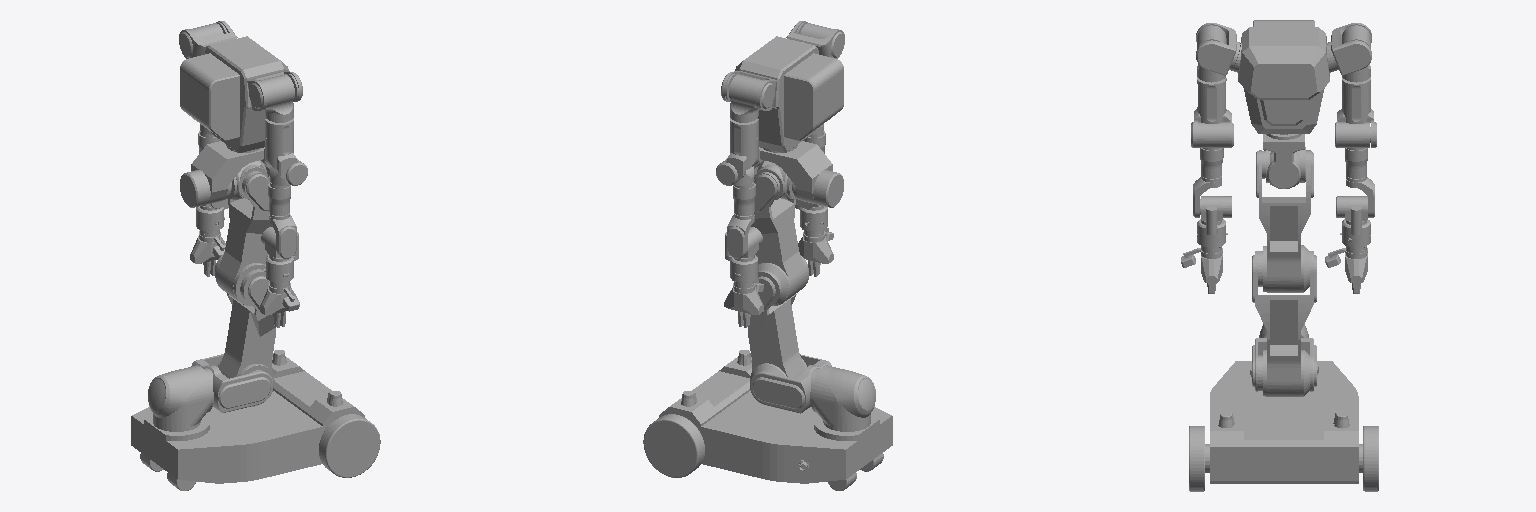
--- What the picture shows (computed from the rendered views, not written in the file) ---
Views: 3 orthographic renders of the robot side by side, from view 1: azimuth 30°, elevation 25°; view 2: azimuth 150°, elevation 25°; view 3: azimuth 270°, elevation 25°.
Robot: RB_Y1_V1.0.1 — 29 links, 28 joints (20 revolute, 2 continuous, 6 fixed); root link base; default pose: all joints at 0.
Visible links, largest first — view 1: base, link_torso_5, link_torso_2, link_torso_1, link_torso_4, wheel_r, link_torso_0, link_right_arm_2, link_right_arm_1, ee_right, ee_left, link_left_arm_0 (+5 smaller); view 2: base, link_torso_5, link_torso_2, link_torso_1, link_torso_4, wheel_l, link_torso_0, link_left_arm_2, link_left_arm_1, ee_left, ee_right, link_right_arm_0 (+5 smaller); view 3: base, link_torso_5, link_torso_1, link_torso_2, link_torso_4, link_right_arm_2, link_left_arm_2, link_left_arm_3, link_right_arm_3, link_left_arm_0, link_right_arm_0, link_left_arm_5 (+9 smaller).
Link boxes in pixels (x1=…): base: x1=131, y1=350, x2=364, y2=490; link_torso_5: x1=180, y1=36, x2=288, y2=152; link_torso_2: x1=215, y1=172, x2=272, y2=305; link_torso_1: x1=215, y1=254, x2=275, y2=406; link_torso_4: x1=180, y1=141, x2=269, y2=207; wheel_r: x1=319, y1=414, x2=380, y2=477; link_torso_0: x1=191, y1=354, x2=273, y2=412; link_right_arm_2: x1=264, y1=118, x2=307, y2=185; link_right_arm_1: x1=259, y1=74, x2=294, y2=122; ee_right: x1=260, y1=274, x2=299, y2=314; ee_left: x1=190, y1=223, x2=225, y2=263; link_left_arm_0: x1=179, y1=21, x2=237, y2=58; base: x1=659, y1=350, x2=892, y2=490; link_torso_5: x1=735, y1=36, x2=843, y2=152; link_torso_2: x1=751, y1=172, x2=808, y2=305; link_torso_1: x1=748, y1=256, x2=808, y2=380; link_torso_4: x1=754, y1=141, x2=843, y2=207; wheel_l: x1=643, y1=414, x2=704, y2=477; link_torso_0: x1=750, y1=354, x2=831, y2=413; link_left_arm_2: x1=716, y1=118, x2=759, y2=185; link_left_arm_1: x1=729, y1=74, x2=764, y2=122; ee_left: x1=724, y1=274, x2=763, y2=314; ee_right: x1=798, y1=223, x2=833, y2=263; link_right_arm_0: x1=786, y1=21, x2=844, y2=58; base: x1=1205, y1=324, x2=1362, y2=483; link_torso_5: x1=1231, y1=20, x2=1336, y2=134; link_torso_1: x1=1252, y1=251, x2=1316, y2=396; link_torso_2: x1=1256, y1=150, x2=1313, y2=292; link_torso_4: x1=1263, y1=134, x2=1304, y2=188; link_right_arm_2: x1=1191, y1=77, x2=1233, y2=147; link_left_arm_2: x1=1335, y1=77, x2=1376, y2=147; link_left_arm_3: x1=1338, y1=122, x2=1370, y2=178; link_right_arm_3: x1=1198, y1=122, x2=1229, y2=178; link_left_arm_0: x1=1328, y1=23, x2=1371, y2=75; link_right_arm_0: x1=1196, y1=23, x2=1240, y2=75; link_left_arm_5: x1=1336, y1=196, x2=1370, y2=236.
Size in the robot's own frame: 0.6625 by 0.6049 by 1.42 metres.
29 mesh visuals loaded from 24 distinct referenced files (24 binary STL).

The robot description file, URDF, robot "RB_Y1_V1.0.1":
<?xml version="1.0"?>
<robot name="RB_Y1_V1.0.1">
  <mobile wheel_base="0.53" wheel_radius="0.1" />

  <link name="base">
    <inertial>
      <mass value="60.08042639"/>
      <origin rpy="0 0 0" xyz="-0.06157942 -0.00142271 0.13513861"/>
      <inertia ixx="1.37742174" ixy="0.02521789" ixz="0.18565467" iyy="2.99386515" iyz="-0.00641869"
               izz="3.76085052"/>
    </inertial>

    <visual>
      <geometry>
        <mesh filename="./meshes/base.stl"/>
      </geometry>
      <material name="LightGrey">
        <color rgba="0.7 0.7 0.7 1.0"/>
      </material>
    </visual>
  </link>

  <link name="wheel_r">
    <inertial>
      <mass value="1.37783736"/>
      <origin rpy="0 0 0" xyz="0.0 -0.00073938 0.0"/>
      <inertia ixx="0.00426657" ixy="0.0" ixz="0.0" iyy="0.00811815" iyz="0.0" izz="0.00426657"/>
    </inertial>

    <visual>
      <geometry>
        <mesh filename="./meshes/WHEEL.stl"/>
      </geometry>
      <material name="LightGrey">
        <color rgba="0.7 0.7 0.7 1.0"/>
      </material>
    </visual>
  </link>

  <link name="wheel_l">
    <inertial>
      <mass value="1.37783736"/>
      <origin rpy="0 0 0" xyz="0.0 0.00073938 0.0"/>
      <inertia ixx="0.00426657" ixy="0.0" ixz="0.0" iyy="0.00811815" iyz="0.0" izz="0.00426657"/>
    </inertial>

    <visual>
      <geometry>
        <mesh filename="./meshes/WHEEL.stl"/>
      </geometry>
      <material name="LightGrey">
        <color rgba="0.7 0.7 0.7 1.0"/>
      </material>
    </visual>
  </link>

  <link name="link_torso_0">
    <inertial>
      <mass value="2.24282123"/>
      <origin rpy="0 0 0" xyz="-0.08848415 0.00021367 0.00000046"/>
      <inertia ixx="0.01413496" ixy="0.00092982" ixz="-0.00000010" iyy="0.01005357"
               iyz="-0.00000008" izz="0.01892525"/>
    </inertial>

    <visual>
      <geometry>
        <mesh filename="./meshes/LINK_1.stl"/>
      </geometry>
      <material name="LightGrey">
        <color rgba="0.7 0.7 0.7 1.0"/>
      </material>
    </visual>

    <collision>
      <geometry>
        <capsule sp="0.0 0.0 0.0" ep="-0.230 0.0 0.0" radius="0.105"/>
      </geometry>
    </collision>
  </link>

  <link name="link_torso_1">
    <inertial>
      <mass value="9.72162676"/>
      <origin rpy="0 0 0" xyz="0.00728955 -0.01728522 0.06911380"/>
      <inertia ixx="0.14862640" ixy="-0.00142621" ixz="-0.00951385" iyy="0.13854733"
               iyz="-0.00975351" izz="0.02912982"/>
    </inertial>

    <visual>
      <geometry>
        <mesh filename="./meshes/LINK_2.stl"/>
      </geometry>
      <material name="LightGrey">
        <color rgba="0.7 0.7 0.7 1.0"/>
      </material>
    </visual>

    <collision>
      <geometry>
        <capsule sp="0.01 0.0 0.130" ep="0.01 0.0 0.350" radius="0.115"/>
      </geometry>
    </collision>
  </link>

  <link name="link_torso_2">
    <inertial>
      <mass value="9.21691850"/>
      <origin rpy="0 0 0" xyz="0.00653835 -0.01769536 0.05636582"/>
      <inertia ixx="0.12162270" ixy="-0.00127910" ixz="-0.00831678" iyy="0.11589190"
               iyz="-0.00873271" izz="0.03094484"/>
    </inertial>

    <visual>
      <geometry>
        <mesh filename="./meshes/LINK_3.stl"/>
      </geometry>
      <material name="LightGrey">
        <color rgba="0.7 0.7 0.7 1.0"/>
      </material>
    </visual>

    <collision>
      <geometry>
        <capsule sp="0.025 0.0 0.15" ep="0.025 0.0 0.310" radius="0.095"/>
      </geometry>
    </collision>
  </link>

  <link name="link_torso_3">
    <inertial>
      <mass value="4.18679196"/>
      <origin rpy="0 0 0" xyz="-0.00574156 -0.01725975 0.00005610"/>
      <inertia ixx="0.00849870" ixy="0.00040861" ixz="-0.00000263" iyy="0.00929513"
               iyz="-0.00001243" izz="0.00955442"/>
    </inertial>

    <visual>
      <geometry>
        <mesh filename="./meshes/LINK_4.stl"/>
      </geometry>
      <material name="LightGrey">
        <color rgba="0.7 0.7 0.7 1.0"/>
      </material>
    </visual>
  </link>

  <link name="link_torso_4">
    <inertial>
      <mass value="4.45566276"/>
      <origin rpy="0 0 0" xyz="-0.09097095 0.00005085 0.02601950"/>
      <inertia ixx="0.01545991" ixy="0.00001883" ixz="-0.00780349" iyy="0.02550888" iyz="0.00000715"
               izz="0.01952563"/>
    </inertial>

    <visual>
      <geometry>
        <mesh filename="./meshes/LINK_5.stl"/>
      </geometry>
      <material name="LightGrey">
        <color rgba="0.7 0.7 0.7 1.0"/>
      </material>
    </visual>

    <collision>
      <geometry>
        <capsule sp="0.03 0.0 0.0385" ep="-0.170 0.0 0.0385" radius="0.105"/>
      </geometry>
    </collision>
  </link>

  <link name="link_torso_5">
    <inertial>
      <mass value="12.87822997"/>
      <origin rpy="0 0 0" xyz="-0.02406094 0.00153804 -0.03247881"/>
      <inertia ixx="0.19092366" ixy="0.00191314" ixz="0.00619094" iyy="0.15535962" iyz="0.00042612"
               izz="0.13368598"/>
    </inertial>

    <visual>
      <geometry>
        <mesh filename="./meshes/LINK_6.stl"/>
      </geometry>
      <material name="LightGrey">
        <color rgba="0.7 0.7 0.7 1.0"/>
      </material>
    </visual>

    <collision>
      <geometry>
        <capsule sp="0.0 0.0 -0.06" ep="0.0 0.0 0.075" radius="0.155"/>
      </geometry>
    </collision>
  </link>

  <link name="link_right_arm_0">
    <inertial>
      <mass value="1.26164242"/>
      <origin rpy="0 0 0" xyz="-0.00316662 0.03437181 -0.00000030"/>
      <inertia ixx="0.00230621" ixy="0.00039024" ixz="-0.00000256" iyy="0.00426418" iyz="0.00000118"
               izz="0.00432156"/>
    </inertial>

    <visual>
      <geometry>
        <mesh filename="./meshes/LINK_7.stl"/>
      </geometry>
      <material name="LightGrey">
        <color rgba="0.7 0.7 0.7 1.0"/>
      </material>
    </visual>
  </link>

  <link name="link_right_arm_1">
    <inertial>
      <mass value="2.27287031"/>
      <origin rpy="0 0 0" xyz="-0.00307855 -0.00124741 -0.01294324"/>
      <inertia ixx="0.00388490" ixy="-0.00001477" ixz="0.00011465" iyy="0.00447034"
               iyz="-0.00010023" izz="0.00288341"/>
    </inertial>

    <visual>
      <geometry>
        <mesh filename="./meshes/LINK_8.stl"/>
      </geometry>
      <material name="LightGrey">
        <color rgba="0.7 0.7 0.7 1.0"/>
      </material>
    </visual>

    <collision>
      <geometry>
        <capsule sp="0.0 0.0 0.0" ep="0.0 0.0 -0.200" radius="0.050"/>
      </geometry>
    </collision>
  </link>

  <link name="link_right_arm_2">
    <inertial>
      <mass value="2.46909439"/>
      <origin rpy="0 0 0" xyz="0.00115434 -0.00196635 -0.16192524"/>
      <inertia ixx="0.00980269" ixy="0.00005871" ixz="0.00051888" iyy="0.00924560" iyz="-0.00045932"
               izz="0.00329867"/>
    </inertial>

    <visual>
      <geometry>
        <mesh filename="./meshes/LINK_9.stl"/>
      </geometry>
      <material name="LightGrey">
        <color rgba="0.7 0.7 0.7 1.0"/>
      </material>
    </visual>

    <collision>
      <geometry>
        <capsule sp="0.026 -0.040 -0.276" ep="0.026 0.040 -0.276" radius="0.05"/>
      </geometry>
    </collision>
  </link>

  <link name="link_right_arm_3">
    <inertial>
      <mass value="2.26099493"/>
      <origin rpy="0 0 0" xyz="-0.01603135 -0.00692891 -0.04549811"/>
      <inertia ixx="0.00822606" ixy="0.00027620" ixz="-0.00156570" iyy="0.00844870" iyz="0.00076157"
               izz="0.00236614"/>
    </inertial>

    <visual>
      <geometry>
        <mesh filename="./meshes/LINK_10.stl"/>
      </geometry>
      <material name="LightGrey">
        <color rgba="0.7 0.7 0.7 1.0"/>
      </material>
    </visual>

    <collision>
      <geometry>
        <capsule sp="-0.031 0.0 -0.05" ep="-0.031 0.0 -0.165" radius="0.04"/>
      </geometry>
    </collision>
  </link>

  <link name="link_right_arm_4">
    <inertial>
      <mass value="0.42508710"/>
      <origin rpy="0 0 0" xyz="-0.00000011 -0.02696036 0.06182110"/>
      <inertia ixx="0.00082466" ixy="0.0" ixz="0.0" iyy="0.00075398" iyz="-0.00025338"
               izz="0.00039794"/>
    </inertial>

    <visual>
      <geometry>
        <mesh filename="./meshes/LINK_11.stl"/>
      </geometry>
      <material name="LightGrey">
        <color rgba="0.7 0.7 0.7 1.0"/>
      </material>
    </visual>

    <collision>
      <geometry>
        <capsule sp="0.0 -0.038 0.065" ep="0.0 -0.038 -0.030" radius="0.035"/>
      </geometry>
    </collision>
  </link>

  <link name="link_right_arm_5">
    <inertial>
      <mass value="1.59194395"/>
      <origin rpy="0 0 0" xyz="0.00318034 -0.00532264 -0.02809655"/>
      <inertia ixx="0.00256054" ixy="-0.00002344" ixz="-0.00001563" iyy="0.00257233"
               iyz="0.00021608" izz="0.00156092"/>
    </inertial>

    <visual>
      <geometry>
        <mesh filename="./meshes/LINK_12.stl"/>
      </geometry>
      <material name="LightGrey">
        <color rgba="0.7 0.7 0.7 1.0"/>
      </material>
    </visual>

    <collision>
      <geometry>
        <capsule sp="0.0 0.0 0.002" ep="0.0 0.0 -0.050" radius="0.075"/>
      </geometry>
    </collision>
  </link>

  <link name="link_right_arm_6">
    <inertial>
      <mass value="0.21029326"/>
      <origin rpy="0 0 0" xyz="0.00071353 -0.00030290 -0.09642180"/>
      <inertia ixx="0.00013433" ixy="-0.00000235" ixz="-0.00000104" iyy="0.00014362"
               iyz="0.00000094" izz="0.00025299"/>
    </inertial>

    <visual>
      <geometry>
        <mesh filename="./meshes/LINK_13.stl"/>
      </geometry>
      <material name="LightGrey">
        <color rgba="0.7 0.7 0.7 1.0"/>
      </material>
    </visual>
  </link>

  <link name="link_left_arm_0">
    <inertial>
      <mass value="1.26164242"/>
      <origin rpy="0 0 0" xyz="-0.00316662 -0.03437151 0.00000242"/>
      <inertia ixx="0.00230624" ixy="-0.00039022" ixz="0.00000269" iyy="0.00426418" iyz="0.00000108"
               izz="0.00432159"/>
    </inertial>

    <visual>
      <geometry>
        <mesh filename="./meshes/LINK_14.stl"/>
      </geometry>
      <material name="LightGrey">
        <color rgba="0.7 0.7 0.7 1.0"/>
      </material>
    </visual>
  </link>

  <link name="link_left_arm_1">
    <inertial>
      <mass value="1.88138658"/>
      <origin rpy="0 0 0" xyz="-0.00183470 0.00040596 -0.01008733"/>
      <inertia ixx="0.00295838" ixy="-0.00001176" ixz="0.00006949" iyy="0.00355208" iyz="0.00004467"
               izz="0.00230558"/>
    </inertial>

    <visual>
      <geometry>
        <mesh filename="./meshes/LINK_15.stl"/>
      </geometry>
      <material name="LightGrey">
        <color rgba="0.7 0.7 0.7 1.0"/>
      </material>
    </visual>

    <collision>
      <geometry>
        <capsule sp="0.0 0.0 0.0" ep="0.0 0.0 -0.200" radius="0.050"/>
      </geometry>
    </collision>
  </link>

  <link name="link_left_arm_2">
    <inertial>
      <mass value="2.35634437"/>
      <origin rpy="0 0 0" xyz="0.00066086 -0.00038583 -0.15742972"/>
      <inertia ixx="0.00842712" ixy="0.00000247" ixz="0.00036948" iyy="0.00802311" iyz="-0.00006550"
               izz="0.00295678"/>
    </inertial>

    <visual>
      <geometry>
        <mesh filename="./meshes/LINK_16.stl"/>
      </geometry>
      <material name="LightGrey">
        <color rgba="0.7 0.7 0.7 1.0"/>
      </material>
    </visual>

    <collision>
      <geometry>
        <capsule sp="0.026 -0.040 -0.276" ep="0.026 0.040 -0.276" radius="0.05"/>
      </geometry>
    </collision>
  </link>

  <link name="link_left_arm_3">
    <inertial>
      <mass value="2.00905891"/>
      <origin rpy="0 0 0" xyz="-0.01565298 0.00793126 -0.04997943"/>
      <inertia ixx="0.00756474" ixy="-0.00026771" ixz="-0.00155419" iyy="0.00772758"
               iyz="-0.00084364" izz="0.00199754"/>
    </inertial>

    <visual>
      <geometry>
        <mesh filename="./meshes/LINK_17.stl"/>
      </geometry>
      <material name="LightGrey">
        <color rgba="0.7 0.7 0.7 1.0"/>
      </material>
    </visual>

    <collision>
      <geometry>
        <capsule sp="-0.031 0.0 -0.05" ep="-0.031 0.0 -0.165" radius="0.04"/>
      </geometry>
    </collision>
  </link>

  <link name="link_left_arm_4">
    <inertial>
      <mass value="0.42508710"/>
      <origin rpy="0 0 0" xyz="0.00000011 0.02696036 0.06182110"/>
      <inertia ixx="0.00082466" ixy="0.0" ixz="0.0" iyy="0.00075398" iyz="0.00025338"
               izz="0.00039794"/>
    </inertial>

    <visual>
      <geometry>
        <mesh filename="./meshes/LINK_18.stl"/>
      </geometry>
      <material name="LightGrey">
        <color rgba="0.7 0.7 0.7 1.0"/>
      </material>
    </visual>

    <collision>
      <geometry>
        <capsule sp="0.0 0.038 0.065" ep="0.0 0.038 -0.030" radius="0.035"/>
      </geometry>
    </collision>
  </link>

  <link name="link_left_arm_5">
    <inertial>
      <mass value="1.44264795"/>
      <origin rpy="0 0 0" xyz="0.00340082 0.00576824 -0.02507309"/>
      <inertia ixx="0.00233577" ixy="0.00003048" ixz="-0.00001191" iyy="0.00232580"
               iyz="-0.00019491" izz="0.00138375"/>
    </inertial>

    <visual>
      <geometry>
        <mesh filename="./meshes/LINK_19.stl"/>
      </geometry>
      <material name="LightGrey">
        <color rgba="0.7 0.7 0.7 1.0"/>
      </material>
    </visual>

    <collision>
      <geometry>
        <capsule sp="0.0 0.0 0.002" ep="0.0 0.0 -0.050" radius="0.075"/>
      </geometry>
    </collision>
  </link>

  <link name="link_left_arm_6">
    <inertial>
      <mass value="0.21029326"/>
      <origin rpy="0 0 0" xyz="-0.00071353 0.00030290 -0.09642180"/>
      <inertia ixx="0.00013433" ixy="-0.00000235" ixz="0.00000104" iyy="0.00014362"
               iyz="-0.00000094" izz="0.00025299"/>
    </inertial>

    <visual>
      <geometry>
        <mesh filename="./meshes/LINK_20.stl"/>
      </geometry>
      <material name="LightGrey">
        <color rgba="0.7 0.7 0.7 1.0"/>
      </material>
    </visual>
  </link>

  <link name="ee_right">
    <inertial>
      <mass value="0.96177521"/>
      <origin rpy="0 0 0" xyz="0.0 0.0 0.0"/>
      <inertia ixx="0.00214634" ixy="0.00000902" ixz="0.00001944" iyy="0.00178176" iyz="-0.00015825"
               izz="0.00131298"/>
    </inertial>

    <visual>
      <geometry>
        <mesh filename="./meshes/EE_BODY.stl"/>
      </geometry>
      <material name="LightGrey">
        <color rgba="0.7 0.7 0.7 1.0"/>
      </material>
    </visual>
  </link>

  <link name="ee_finger_r1">
    <inertial>
      <mass value="0.03030138"/>
      <origin rpy="0 0 0" xyz="0.0 0.0 0.0"/>
      <inertia ixx="0.00000985" ixy="0.0" ixz="-0.00000022" iyy="0.00000845" iyz="0.0"
               izz="0.00000201"/>
    </inertial>

    <visual>
      <geometry>
        <mesh filename="./meshes/EE_FINGER.stl"/>
      </geometry>
      <material name="LightGrey">
        <color rgba="0.7 0.7 0.7 1.0"/>
      </material>
    </visual>
  </link>

  <link name="ee_finger_r2">
    <inertial>
      <mass value="0.03030138"/>
      <origin rpy="0 0 0" xyz="0.0 0.0 0.0"/>
      <inertia ixx="0.00000985" ixy="0.0" ixz="-0.00000022" iyy="0.00000845" iyz="0.0"
               izz="0.00000201"/>
    </inertial>

    <visual>
      <geometry>
        <mesh filename="./meshes/EE_FINGER.stl"/>
      </geometry>
      <material name="LightGrey">
        <color rgba="0.7 0.7 0.7 1.0"/>
      </material>
    </visual>
  </link>

  <link name="ee_left">
    <inertial>
      <mass value="0.96177521"/>
      <origin rpy="0 0 0" xyz="0.0 0.0 0.0"/>
      <inertia ixx="0.00214634" ixy="0.00000902" ixz="0.00001944" iyy="0.00178176" iyz="-0.00015825"
               izz="0.00131298"/>
    </inertial>

    <visual>
      <geometry>
        <mesh filename="./meshes/EE_BODY.stl"/>
      </geometry>
      <material name="LightGrey">
        <color rgba="0.7 0.7 0.7 1.0"/>
      </material>
    </visual>
  </link>

  <link name="ee_finger_l1">
    <inertial>
      <mass value="0.03030138"/>
      <origin rpy="0 0 0" xyz="0.0 0.0 0.0"/>
      <inertia ixx="0.00000985" ixy="0.0" ixz="-0.00000022" iyy="0.00000845" iyz="0.0"
               izz="0.00000201"/>
    </inertial>

    <visual>
      <geometry>
        <mesh filename="./meshes/EE_FINGER.stl"/>
      </geometry>
      <material name="LightGrey">
        <color rgba="0.7 0.7 0.7 1.0"/>
      </material>
    </visual>
  </link>

  <link name="ee_finger_l2">
    <inertial>
      <mass value="0.03030138"/>
      <origin rpy="0 0 0" xyz="0.0 0.0 0.0"/>
      <inertia ixx="0.00000985" ixy="0.0" ixz="-0.00000022" iyy="0.00000845" iyz="0.0"
               izz="0.00000201"/>
    </inertial>

    <visual>
      <geometry>
        <mesh filename="./meshes/EE_FINGER.stl"/>
      </geometry>
      <material name="LightGrey">
        <color rgba="0.7 0.7 0.7 1.0"/>
      </material>
    </visual>
  </link>


  <!-- Joints -->

  <joint name="torso_0" type="revolute">
    <parent link="base"/>
    <child link="link_torso_0"/>
    <origin rpy="0.0 0.0 0.0" xyz="0.0 0.0 0.2805"/>
    <axis xyz="1 0 0"/>
    <limit effort="1000.0" lower="-0.34906585" upper="0.34906585" velocity="3.14159265"/>
  </joint>

  <joint name="torso_1" type="revolute">
    <parent link="link_torso_0"/>
    <child link="link_torso_1"/>
    <origin rpy="0.0 0.0 0.0" xyz="0.0 0.0 0.0"/>
    <axis xyz="0 1 0"/>
    <limit effort="1000.0" lower="-1.04719755" upper="1.52173048" velocity="3.14159265"/>
  </joint>

  <joint name="torso_2" type="revolute">
    <parent link="link_torso_1"/>
    <child link="link_torso_2"/>
    <origin rpy="0.0 0.0 0.0" xyz="0.0 0.0 0.350"/>
    <axis xyz="0 1 0"/>
    <limit effort="1000.0" lower="-2.44346095" upper="1.570796" velocity="3.14159265"/>
  </joint>

  <joint name="torso_3" type="revolute">
    <parent link="link_torso_2"/>
    <child link="link_torso_3"/>
    <origin rpy="0.0 0.0 0.0" xyz="0.0 0.0 0.350"/>
    <axis xyz="0 1 0"/>
    <limit effort="1000.0" lower="-0.78539816" upper="1.57079633" velocity="3.14159265"/>
  </joint>

  <joint name="torso_4" type="revolute">
    <parent link="link_torso_3"/>
    <child link="link_torso_4"/>
    <origin rpy="0.0 0.0 0.0" xyz="0.0 0.0 0.0"/>
    <axis xyz="1 0 0"/>
    <limit effort="1000.0" lower="-0.52359878" upper="0.52359878" velocity="3.14159265"/>
  </joint>

  <joint name="torso_5" type="revolute">
    <parent link="link_torso_4"/>
    <child link="link_torso_5"/>
    <origin rpy="0.0 0.0 0.0" xyz="0.0 0.0 0.309426548461"/>
    <axis xyz="0 0 1"/>
    <limit effort="1000.0" lower="-1.57079633" upper="1.57079633" velocity="3.14159265"/>
  </joint>

  <joint name="right_arm_0" type="revolute">
    <parent link="link_torso_5"/>
    <child link="link_right_arm_0"/>
    <origin rpy="-0.349065850  0.0 0.0" xyz="0.0 -0.220 0.080073451539 "/>
    <axis xyz="0 1 0"/>
    <limit effort="1000.0" lower="-2.35619449" upper="2.35619449" velocity="3.14159265"/>
  </joint>

  <joint name="right_arm_1" type="revolute">
    <parent link="link_right_arm_0"/>
    <child link="link_right_arm_1"/>
    <origin rpy="0.349065850 0.0 0.0" xyz="0.0 0.0 0.0"/>
    <axis xyz="1 0 0"/>
    <limit effort="1000.0" lower="-3.14159265" upper="0.05" velocity="3.14159265"/>
  </joint>

  <joint name="right_arm_2" type="revolute">
    <parent link="link_right_arm_1"/>
    <child link="link_right_arm_2"/>
    <origin rpy="0.0 0.0 0.0" xyz="0.0 0.0 0.0"/>
    <axis xyz="0 0 1"/>
    <limit effort="1000.0" lower="-2.09439510" upper="2.09439510" velocity="3.14159265"/>
  </joint>

  <joint name="right_arm_3" type="revolute">
    <parent link="link_right_arm_2"/>
    <child link="link_right_arm_3"/>
    <origin rpy="0.0 0.0 0.0" xyz="0.031 0.0 -0.276"/>
    <axis xyz="0 1 0"/>
    <limit effort="1000.0" lower="-2.61799388" upper="0.01" velocity="3.14159265"/>
  </joint>

  <joint name="right_arm_4" type="revolute">
    <parent link="link_right_arm_3"/>
    <child link="link_right_arm_4"/>
    <origin rpy="0.0 0.0 0.0" xyz="-0.031 0.0 -0.256"/>
    <axis xyz="0 0 1"/>
    <limit effort="1000.0" lower="-6.28318531" upper="6.28318531" velocity="3.14159265"/>
  </joint>

  <joint name="right_arm_5" type="revolute">
    <parent link="link_right_arm_4"/>
    <child link="link_right_arm_5"/>
    <origin rpy="0.0 0.0 0.0" xyz="0.0 0.0 0.0"/>
    <axis xyz="0 1 0"/>
    <limit effort="1000.0" lower="-1.74532925" upper="2.00712864" velocity="3.14159265"/>
  </joint>

  <joint name="right_arm_6" type="revolute">
    <parent link="link_right_arm_5"/>
    <child link="link_right_arm_6"/>
    <origin rpy="0.0 0.0 0.0" xyz="0.0 0.0 0.0"/>
    <axis xyz="0 0 1"/>
    <limit effort="1000.0" lower="-2.96705973" upper="2.96705973" velocity="3.14159265"/>
  </joint>

  <joint name="left_arm_0" type="revolute">
    <parent link="link_torso_5"/>
    <child link="link_left_arm_0"/>
    <origin rpy="0.349065850  0.0 0.0" xyz="0.0 0.220 0.080073452 "/>
    <axis xyz="0 1 0"/>
    <limit effort="1000.0" lower="-2.35619449" upper="2.35619449" velocity="3.14159265"/>
  </joint>

  <joint name="left_arm_1" type="revolute">
    <parent link="link_left_arm_0"/>
    <child link="link_left_arm_1"/>
    <origin rpy="-0.349065850 0.0 0.0" xyz="0.0 0.0 0.0"/>
    <axis xyz="1 0 0"/>
    <limit effort="1000.0" lower="-0.05" upper="3.14159265" velocity="3.14159265"/>
  </joint>

  <joint name="left_arm_2" type="revolute">
    <parent link="link_left_arm_1"/>
    <child link="link_left_arm_2"/>
    <origin rpy="0.0 0.0 0.0" xyz="0.0 0.0 0.0"/>
    <axis xyz="0 0 1"/>
    <limit effort="1000.0" lower="-2.09439510" upper="2.09439510" velocity="3.14159265"/>
  </joint>

  <joint name="left_arm_3" type="revolute">
    <parent link="link_left_arm_2"/>
    <child link="link_left_arm_3"/>
    <origin rpy="0.0 0.0 0.0" xyz="0.031 0.0 -0.276"/>
    <axis xyz="0 1 0"/>
    <limit effort="1000.0" lower="-2.61799388" upper="0.01" velocity="3.14159265"/>
  </joint>

  <joint name="left_arm_4" type="revolute">
    <parent link="link_left_arm_3"/>
    <child link="link_left_arm_4"/>
    <origin rpy="0.0 0.0 0.0" xyz="-0.031 0.0 -0.256"/>
    <axis xyz="0 0 1"/>
    <limit effort="1000.0" lower="-6.28318531" upper="6.28318531" velocity="3.14159265"/>
  </joint>

  <joint name="left_arm_5" type="revolute">
    <parent link="link_left_arm_4"/>
    <child link="link_left_arm_5"/>
    <origin rpy="0.0 0.0 0.0" xyz="0.0 0.0 0.0"/>
    <axis xyz="0 1 0"/>
    <limit effort="1000.0" lower="-1.74532925" upper="2.00712864" velocity="30.14159265"/>
  </joint>

  <joint name="left_arm_6" type="revolute">
    <parent link="link_left_arm_5"/>
    <child link="link_left_arm_6"/>
    <origin rpy="0.0 0.0 0.0" xyz="0.0 0.0 0.0"/>
    <axis xyz="0 0 1"/>
    <limit effort="1000.0" lower="-2.96705973" upper="2.96705973" velocity="3.14159265"/>
  </joint>

  <joint name="right_wheel" type="continuous">
    <parent link="base"/>
    <child link="wheel_r"/>
    <origin rpy="0.0 0.0 0.0" xyz="0.228 -0.265 0.1"/>
    <axis xyz="0 1 0"/>
  </joint>

  <joint name="left_wheel" type="continuous">
    <parent link="base"/>
    <child link="wheel_l"/>
    <origin rpy="0.0 0.0 0.0" xyz="0.228 0.265 0.1"/>
    <axis xyz="0 1 0"/>
  </joint>

  <joint name="tool_right" type="fixed">
    <parent link="link_right_arm_6"/>
    <child link="ee_right"/>
    <origin rpy="0.0 0.0 0.0" xyz="0.0 0.0 -0.1087"/>
    <axis xyz="0 0 1"/>
  </joint>

  <joint name="gripper_finger_r1" type="fixed">
    <parent link="ee_right"/>
    <child link="ee_finger_r1"/>
    <origin rpy="0.0 0.0 0.0" xyz="0.005 0.0 -0.1191"/>
    <axis xyz="-1 0 0"/>
    <limit effort="1000" velocity="0.05" lower="-0.05" upper="0"/>
  </joint>

  <joint name="gripper_finger_r2" type="fixed">
    <parent link="ee_right"/>
    <child link="ee_finger_r2"/>
    <origin rpy="0.0 0.0 3.1415926535" xyz="-0.005 0.0 -0.1191"/>
    <axis xyz="1 0 0"/>
    <limit effort="1000" velocity="0.05" lower="0" upper="0.05"/>
  </joint>

  <joint name="tool_left" type="fixed">
    <parent link="link_left_arm_6"/>
    <child link="ee_left"/>
    <origin rpy="0.0 0.0 0.0" xyz="0.0 0.0 -0.1087"/>
    <axis xyz="0 0 1"/>
  </joint>

  <joint name="gripper_finger_l1" type="fixed">
    <parent link="ee_left"/>
    <child link="ee_finger_l1"/>
    <origin rpy="0.0 0.0 0.0" xyz="0.005 0.0 -0.1191"/>
    <axis xyz="-1 0 0"/>
    <limit effort="1000" velocity="0.05" lower="-0.05" upper="0"/>
  </joint>

  <joint name="gripper_finger_l2" type="fixed">
    <parent link="ee_left"/>
    <child link="ee_finger_l2"/>
    <origin rpy="0.0 0.0 3.1415926535" xyz="-0.005 0.0 -0.1191"/>
    <axis xyz="1 0 0"/>
    <limit effort="1000" velocity="0.05" lower="0" upper="0.05"/>
  </joint>

</robot>
